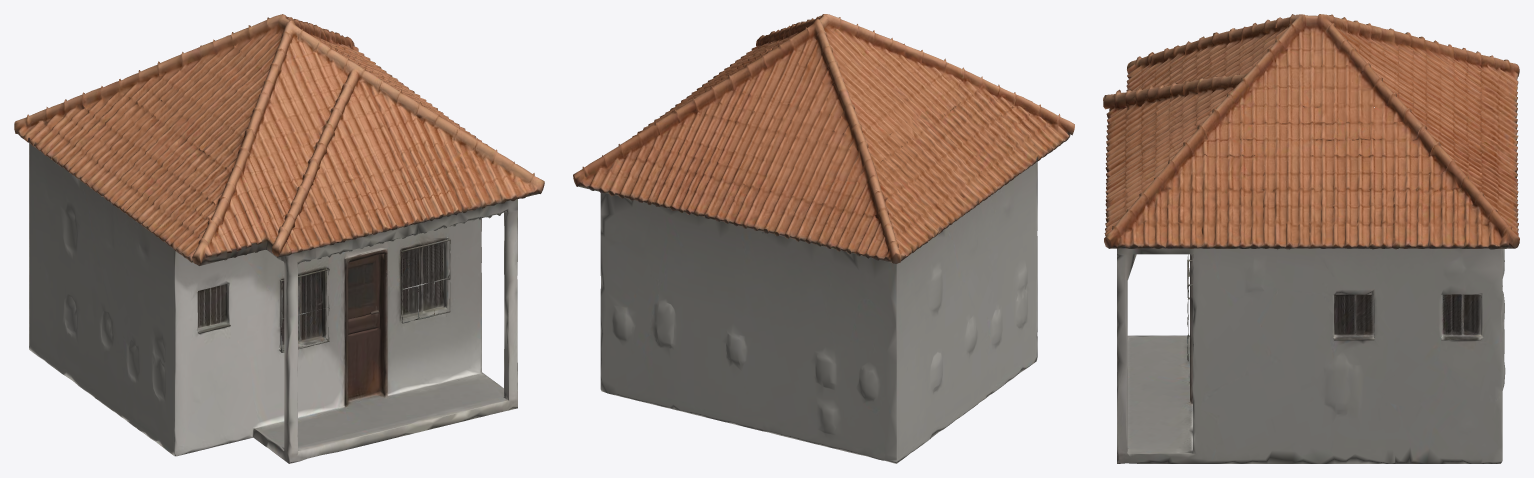
File: predio_casa2.glb
The picture shows the model from 3 angles, left to right: view 1: azimuth 30°, elevation 25°; view 2: azimuth 150°, elevation 25°; view 3: azimuth 270°, elevation 25°; orthographic projection. The views are drawn at different scales.
Visible parts, largest first — view 1: tripo_node_ec0d9166-7f44-4936-a22e-6a542e2cdea4; view 2: tripo_node_ec0d9166-7f44-4936-a22e-6a542e2cdea4; view 3: tripo_node_ec0d9166-7f44-4936-a22e-6a542e2cdea4.
Part boxes in pixels (box(x1,y1,x2,y2)): tripo_node_ec0d9166-7f44-4936-a22e-6a542e2cdea4: box(14, 14, 544, 463); tripo_node_ec0d9166-7f44-4936-a22e-6a542e2cdea4: box(573, 14, 1074, 463); tripo_node_ec0d9166-7f44-4936-a22e-6a542e2cdea4: box(1103, 14, 1519, 463).
Bounding box in the file's own units: 1 × 1 × 1.
Materials: 1 (1 with a texture image).
